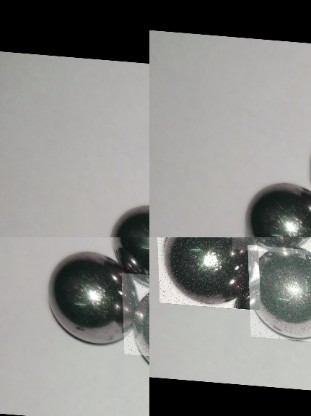ironball: (50, 249, 138, 348), (154, 237, 259, 307), (246, 241, 311, 338), (245, 178, 309, 237), (107, 202, 147, 269), (119, 269, 149, 355)
